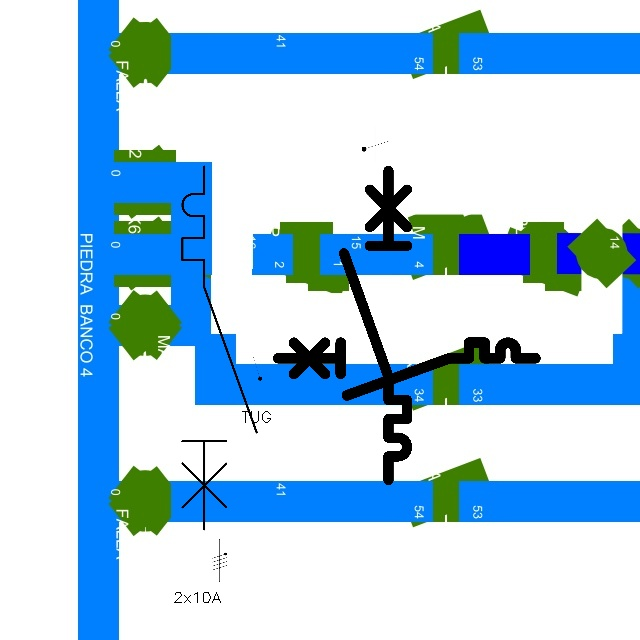interruptor_termomagnetico: (173, 157, 266, 538), (336, 162, 415, 487), (271, 336, 541, 402)
